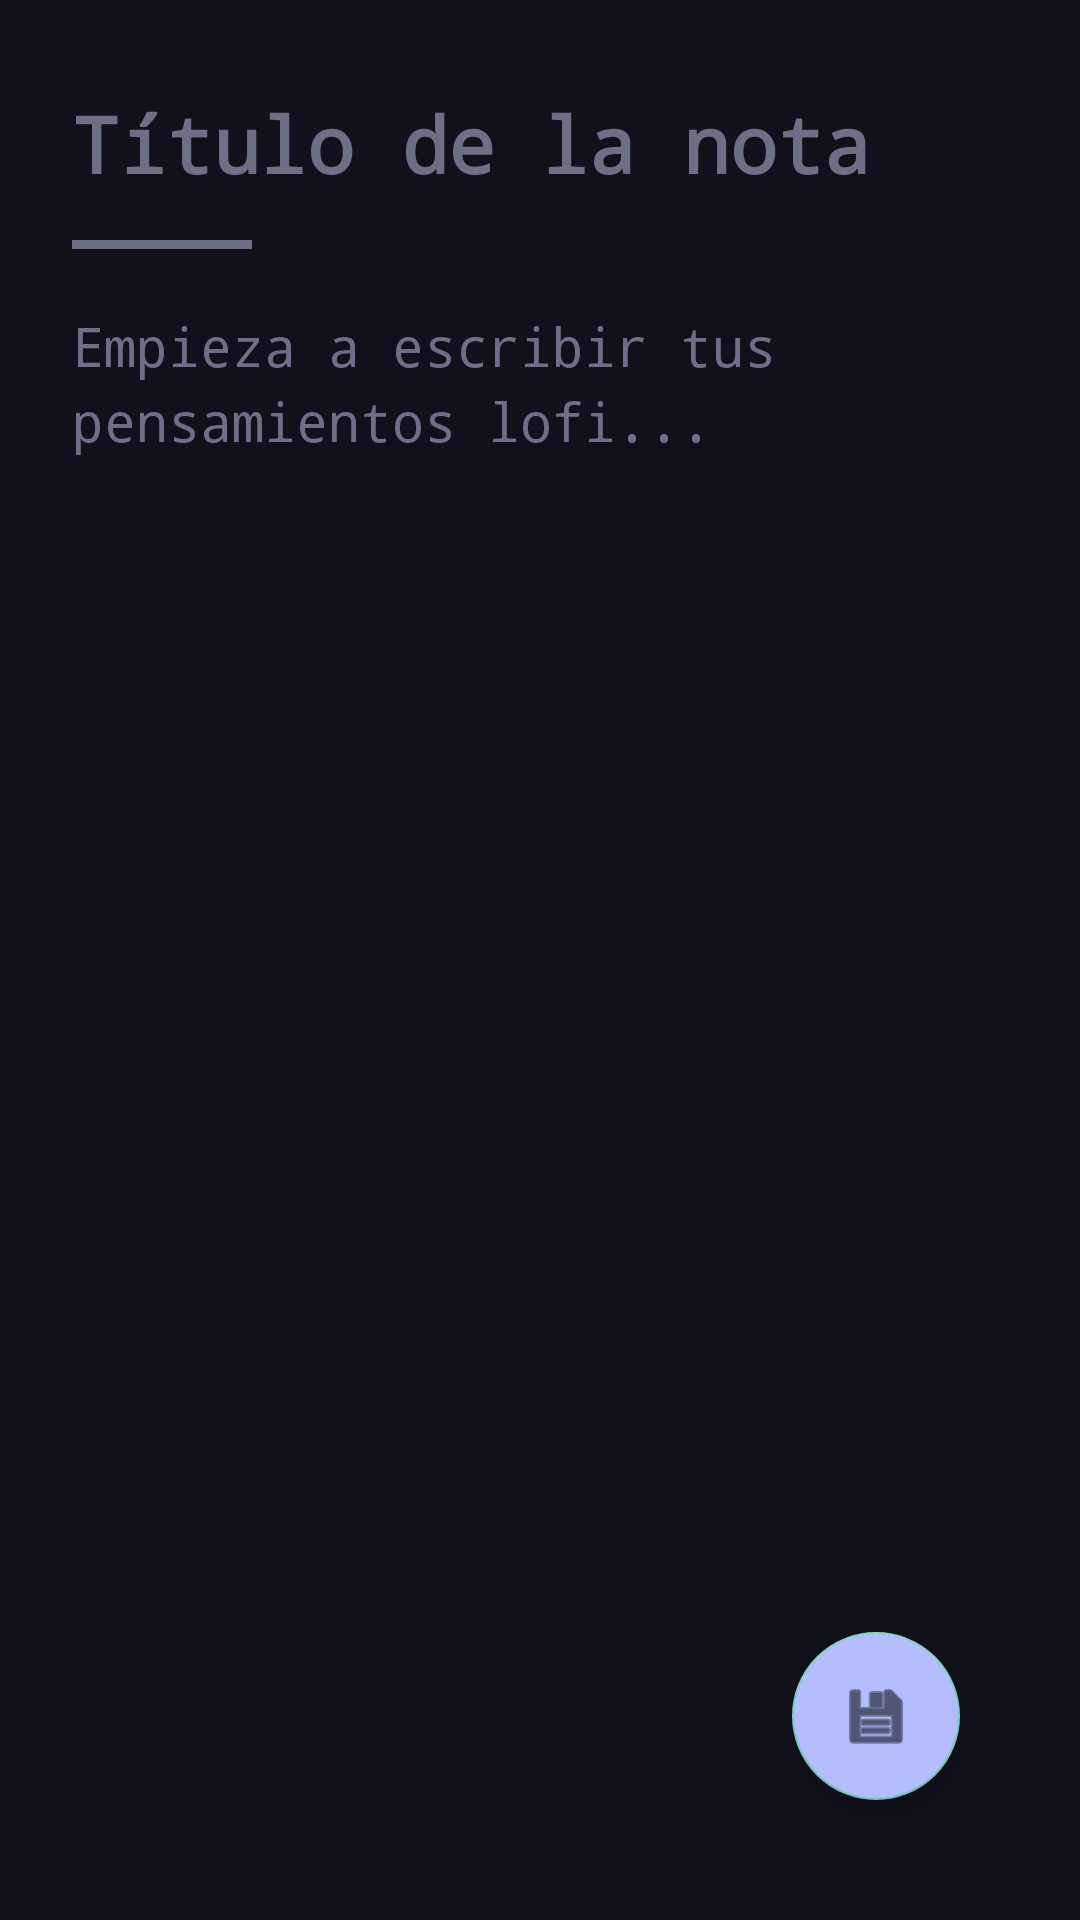

Screen size 1080w x 1920h. Icon name, then its box in pixels as box(x1, y1, x2, y2):
Guardar nota: box(792, 1632, 960, 1800)
